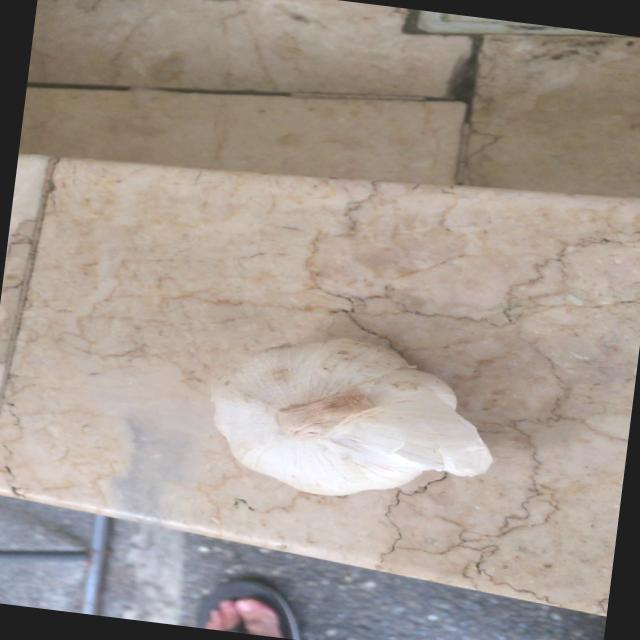bawang: (196, 319, 508, 519)
